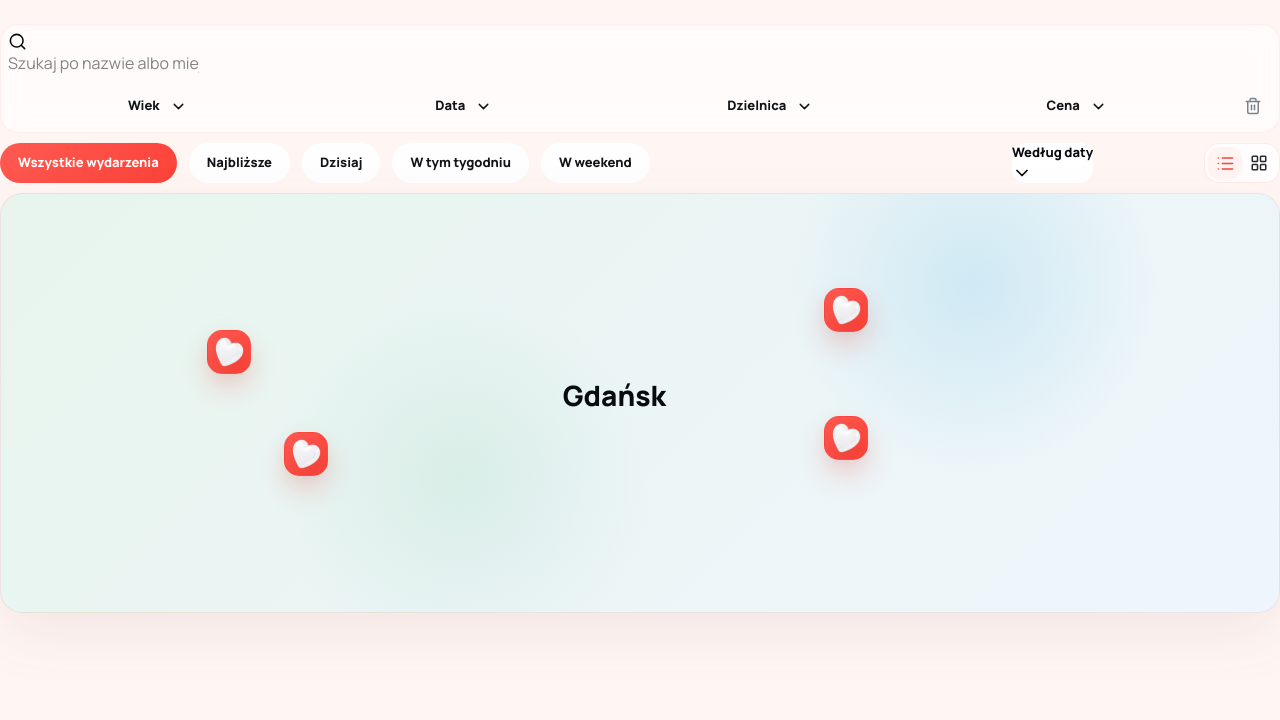
Test: ProfileEventsView › opens date as a filter popover with any-date action and date picker input
The image size is (1280, 720).
Click the button "Data": (464, 106) [314,88,613,124]
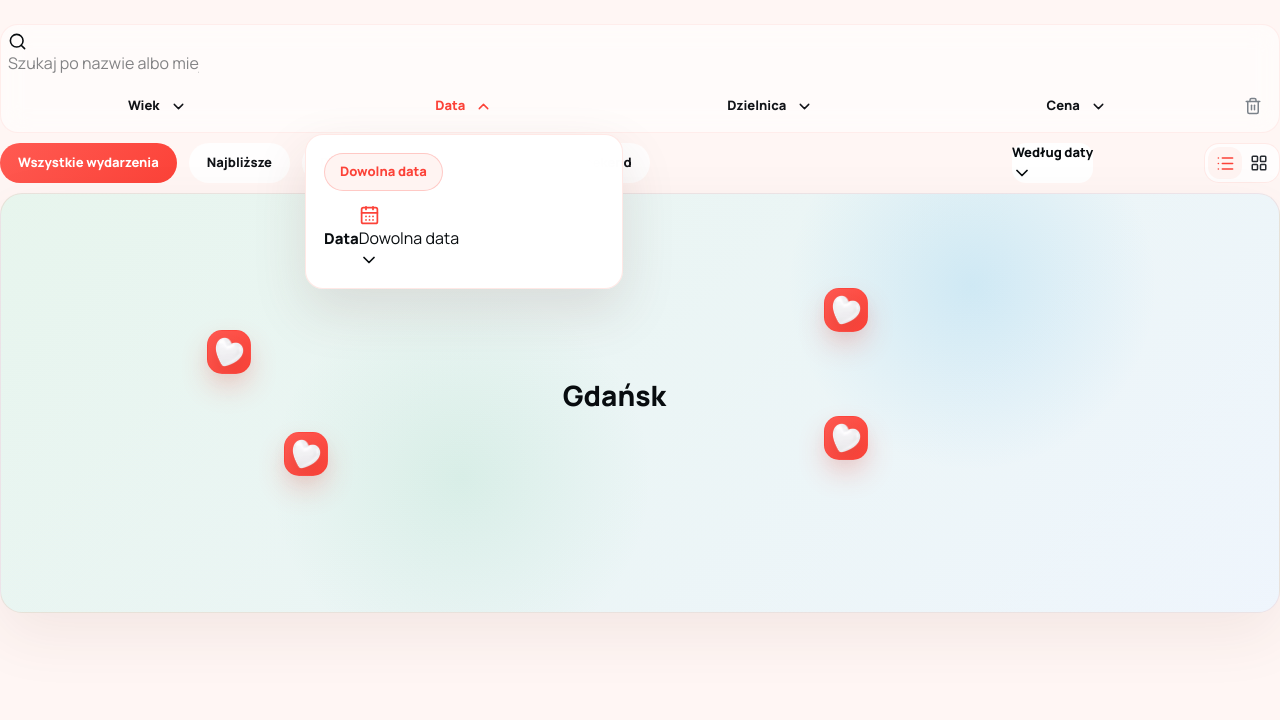
Expected: the 1st button "Dowolna data" is shown, [324,153,443,191]
Expected: the 2nd button "Data Dowolna data" is shown, [359,205,459,270]
